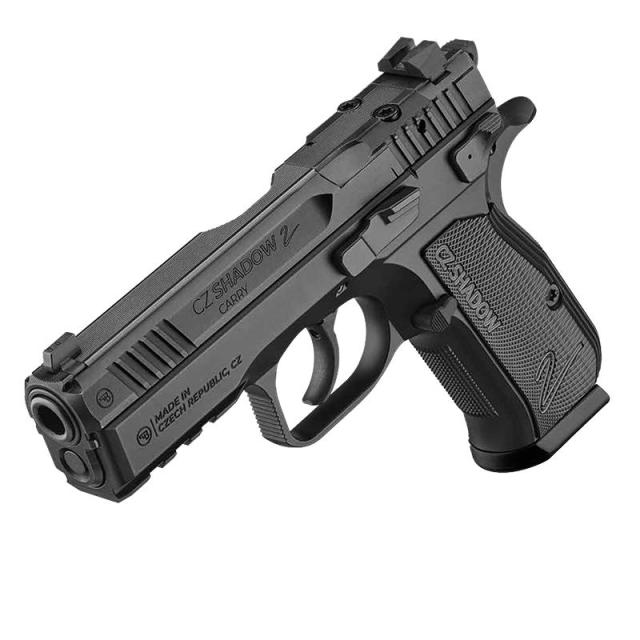gun: (24, 38, 611, 504)
